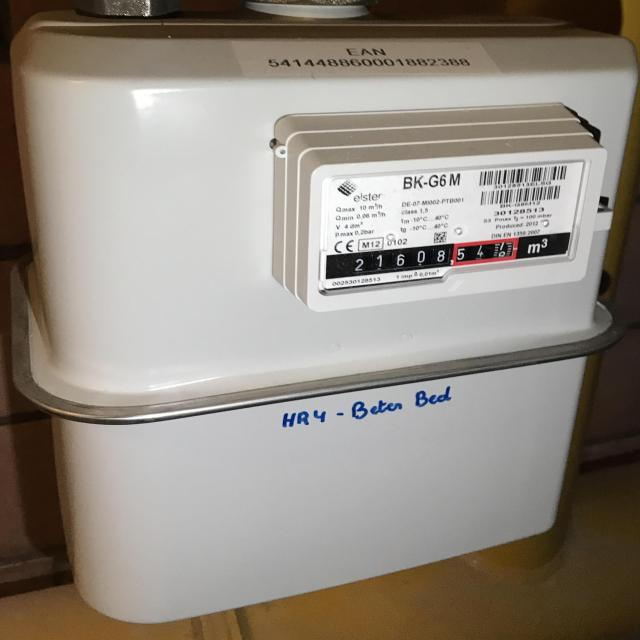gaz_meter: (324, 161, 587, 297)
indication: (338, 236, 521, 278)
